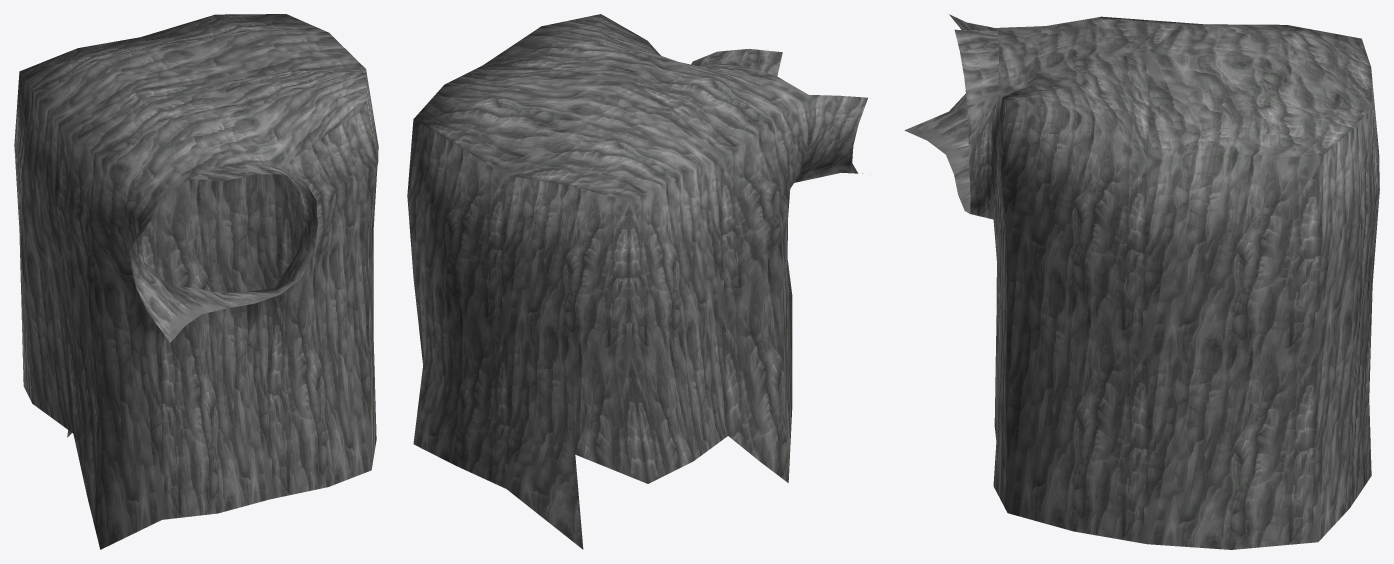
File: SWORDLIGHT20_PS-AREA02-03TRANS_06.fbx
3 renders of one model, left to right at view 1: azimuth 30°, elevation 25°; view 2: azimuth 150°, elevation 25°; view 3: azimuth 270°, elevation 25°, orthographic. The views are drawn at different scales.
Visible parts, largest first — view 1: SWORDLIGHT20_PS-AREA02-03TRANS_06; view 2: SWORDLIGHT20_PS-AREA02-03TRANS_06; view 3: SWORDLIGHT20_PS-AREA02-03TRANS_06.
Boxes of the visible parts, left/top/right/bottom form: SWORDLIGHT20_PS-AREA02-03TRANS_06: left=14, top=14, right=378, bottom=549; SWORDLIGHT20_PS-AREA02-03TRANS_06: left=407, top=14, right=867, bottom=549; SWORDLIGHT20_PS-AREA02-03TRANS_06: left=904, top=14, right=1379, bottom=549.
Size of the model in its own units: 147685 by 179559 by 166497.
Materials: 3 (3 with a texture image).
